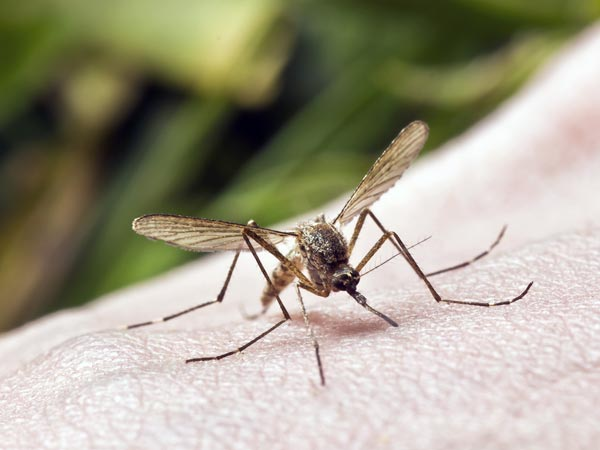dengue_mosquito: (133, 121, 533, 353)
